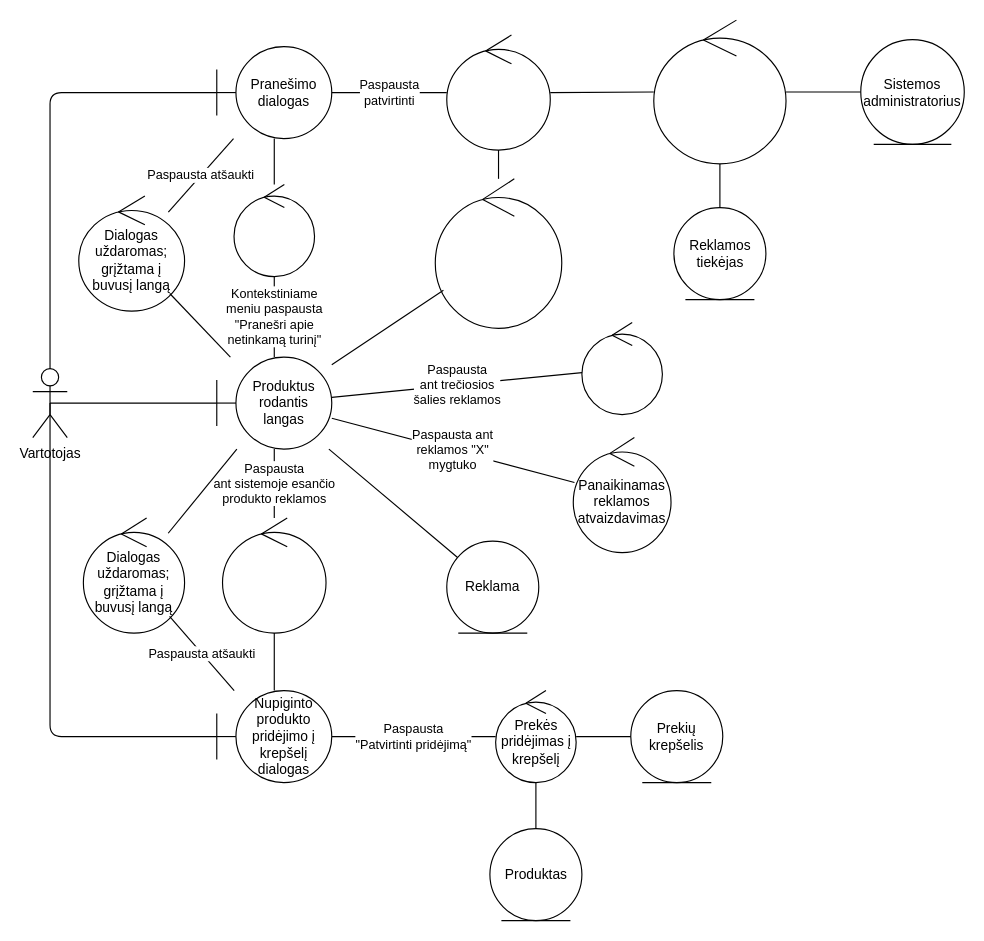
Some shapes in this 984 by 941 pixel diagram are drawn without their labels. Each missing label, with the box of its shape:
Atidaromas pranešimo dialogas: (233, 183, 315, 277)
Nukreipimas į reklamos turinį: (581, 321, 662, 415)
Persiunčiamas pranešimas sistemos administratorii ir reklamos tiekėjui: (653, 19, 786, 164)
Rodomas dialogas pridėti nupigintą produktą į krepšelį: (221, 517, 326, 633)
Sisteminis pranešimas apie netinkamą raklamą: (446, 34, 550, 150)
Vartotojui visam laikui panaikinama reklama ir grįžtama į buvusį langą: (434, 178, 562, 328)
